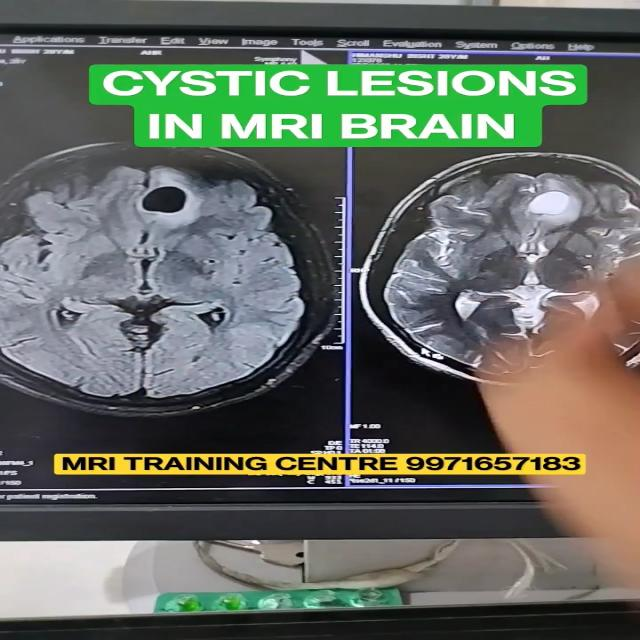tumor: (113, 169, 230, 244), (502, 184, 620, 239)
